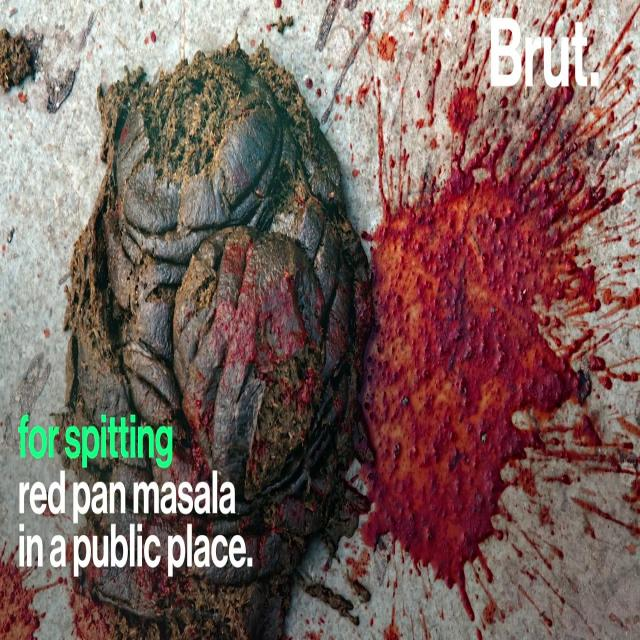spit: (344, 153, 610, 582)
